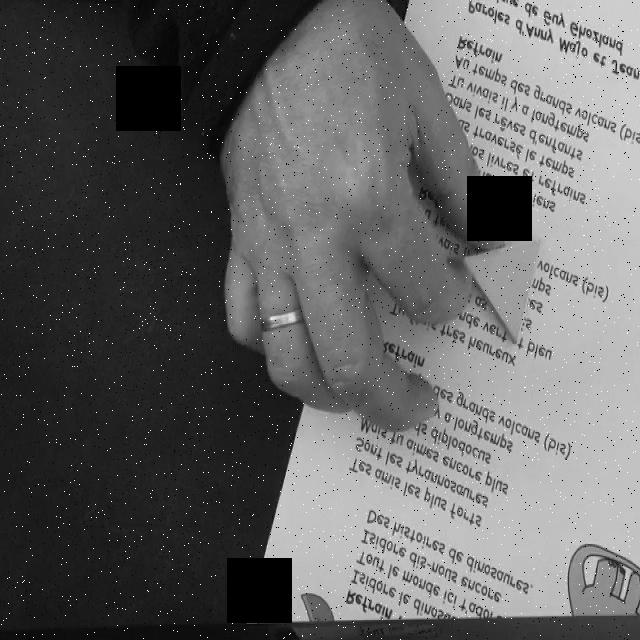triangle: (460, 235, 544, 345)
